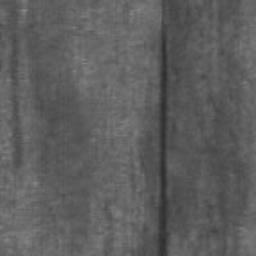Scratches: (158, 11, 170, 256)
